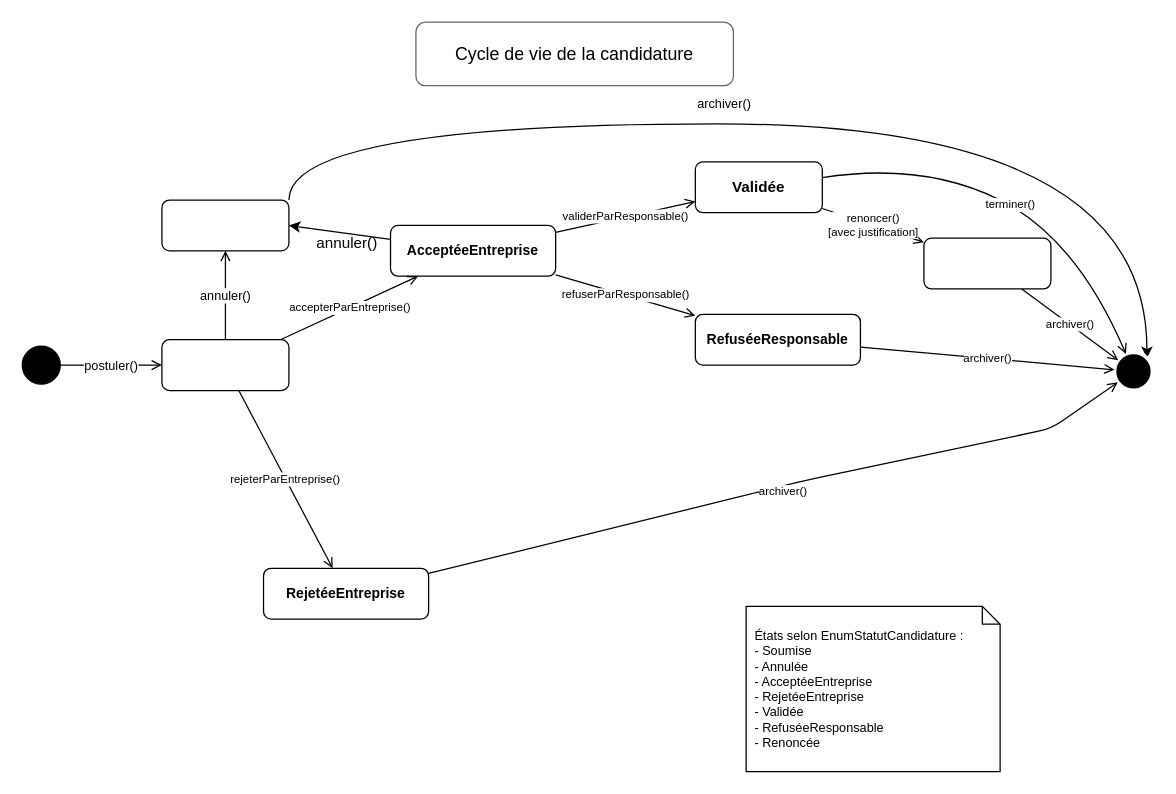
Some shapes in this 1176 by 794 pixel diagram are drawn without their labels. Each missing label, with the centre of its shape:
"Annulée" belongs at pixel 225 225.
"Renoncée" belongs at pixel 987 263.
"Soumise" belongs at pixel 225 364.
